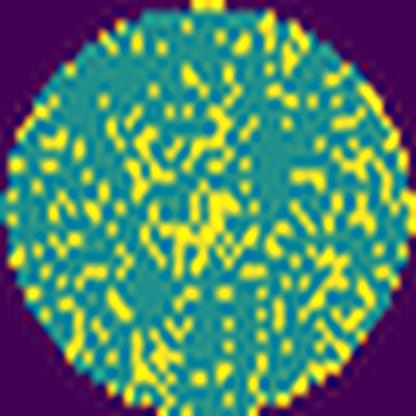Center: (140, 183, 245, 284)
